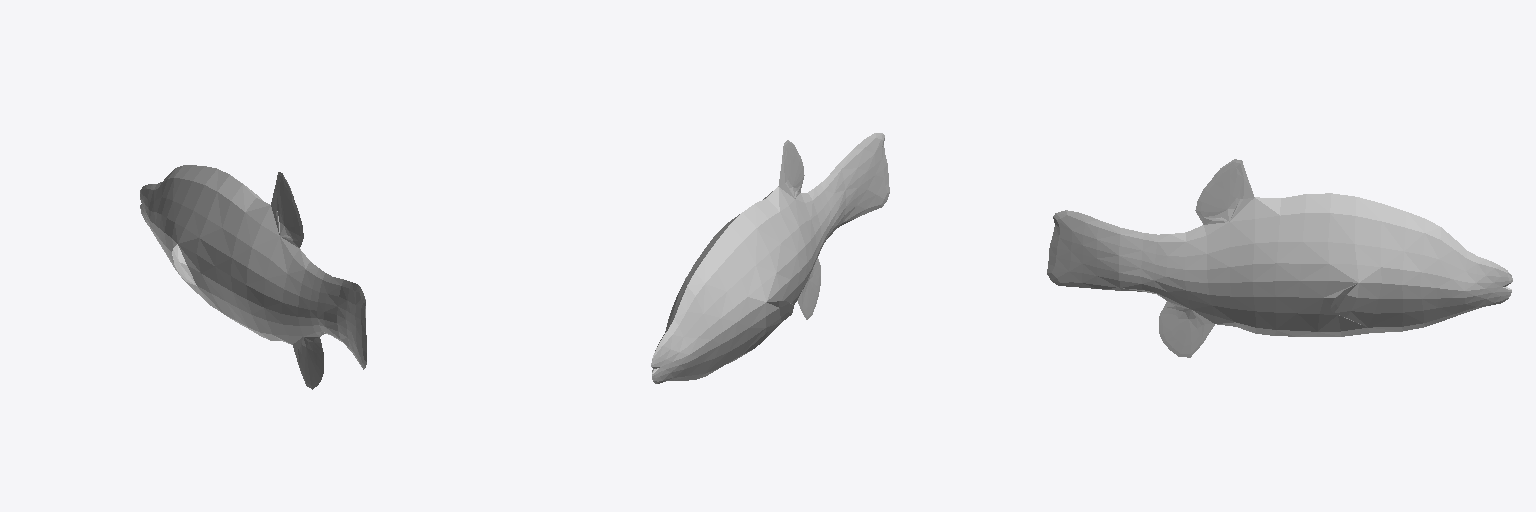
File: interestingfish3anim.obj
The picture shows the model from 3 angles: view 1: azimuth 30°, elevation 25°; view 2: azimuth 150°, elevation 25°; view 3: azimuth 270°, elevation 25°; orthographic projection.
Parts seen in each view (by area): view 1: Plane; view 2: Plane; view 3: Plane.
Part boxes in pixels (left/top/right/bottom): Plane: left=140, top=165, right=366, bottom=389; Plane: left=651, top=133, right=889, bottom=383; Plane: left=1047, top=159, right=1512, bottom=357.
Bounding box in the file's own units: 2.49 × 4.36 × 9.33.